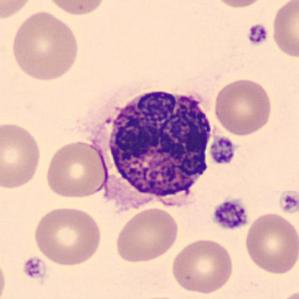Basophil: (96, 79, 218, 218)
Platelets: (209, 197, 251, 231), (208, 135, 236, 166), (21, 254, 46, 281), (245, 22, 270, 47), (277, 189, 298, 215)
RBC: (8, 9, 82, 83), (31, 204, 104, 268), (43, 138, 109, 201), (169, 236, 236, 296), (112, 206, 180, 264), (212, 76, 274, 137), (243, 211, 298, 276), (0, 119, 43, 191), (270, 0, 299, 59), (42, 0, 108, 17), (0, 0, 35, 21), (210, 0, 268, 9), (126, 293, 192, 299), (0, 252, 8, 299), (276, 287, 298, 299)
